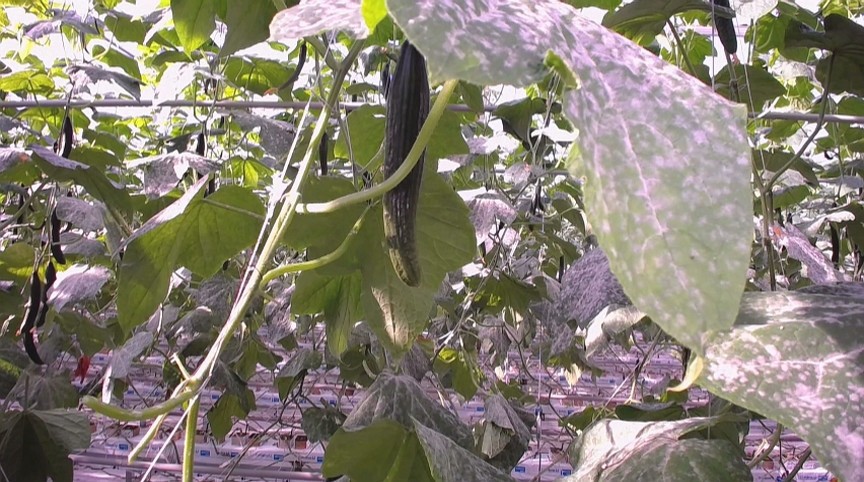cucumber: (382, 38, 429, 290), (19, 272, 42, 333), (712, 1, 738, 53)
